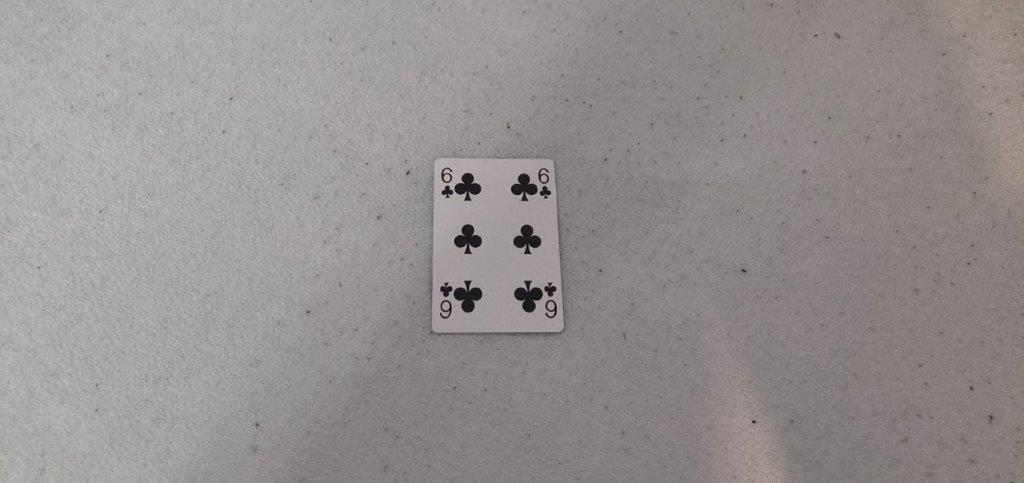6C: (437, 164, 457, 201), (537, 164, 553, 203)
